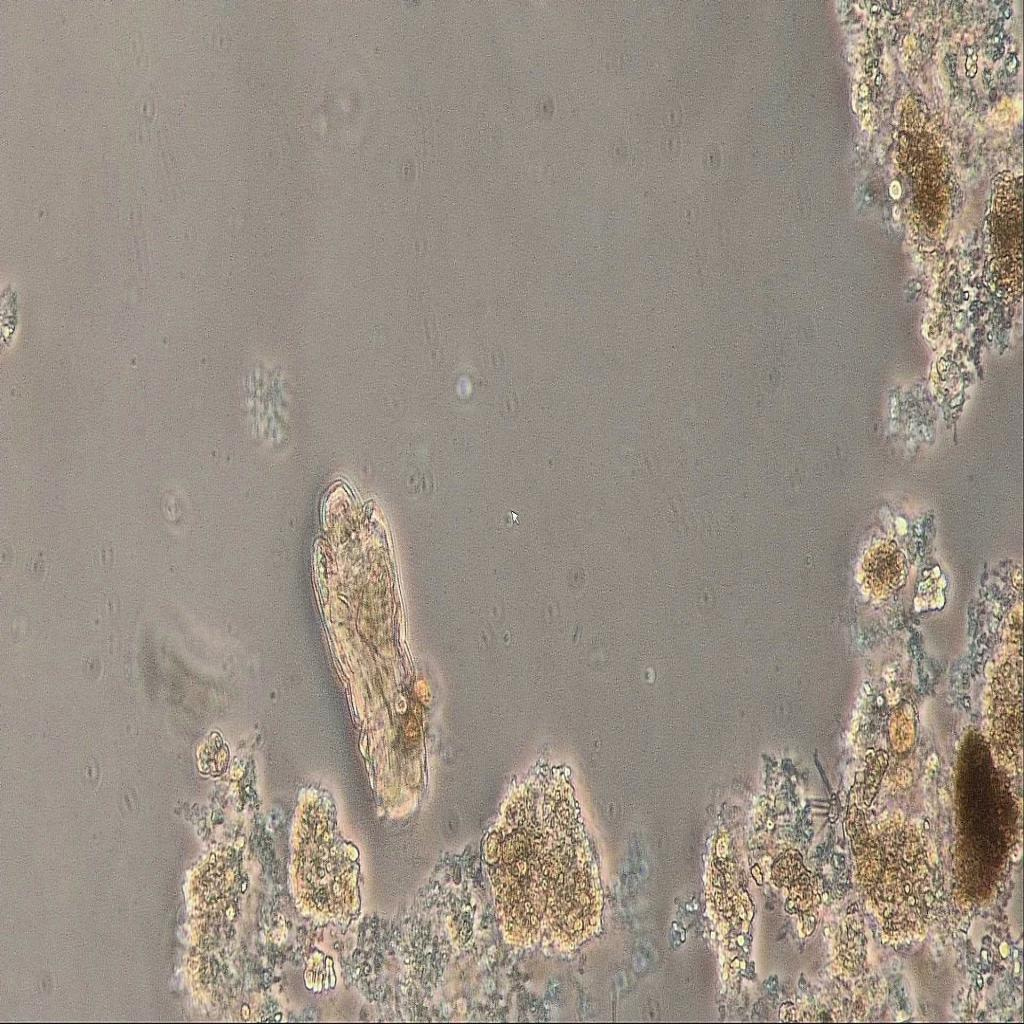Rotatoria: (302, 460, 459, 846)
